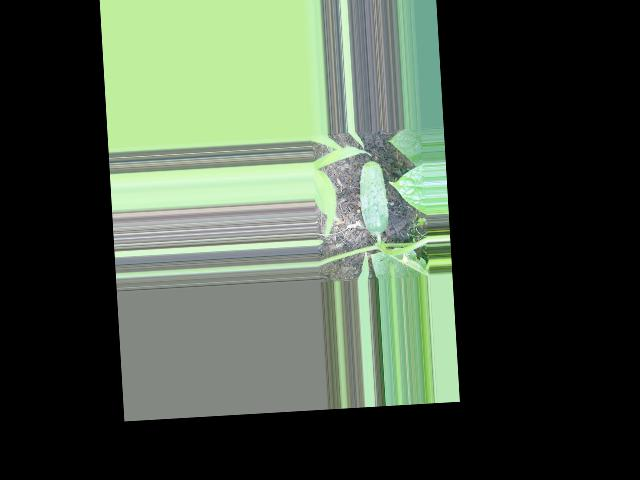cucumber: (357, 159, 389, 235)
